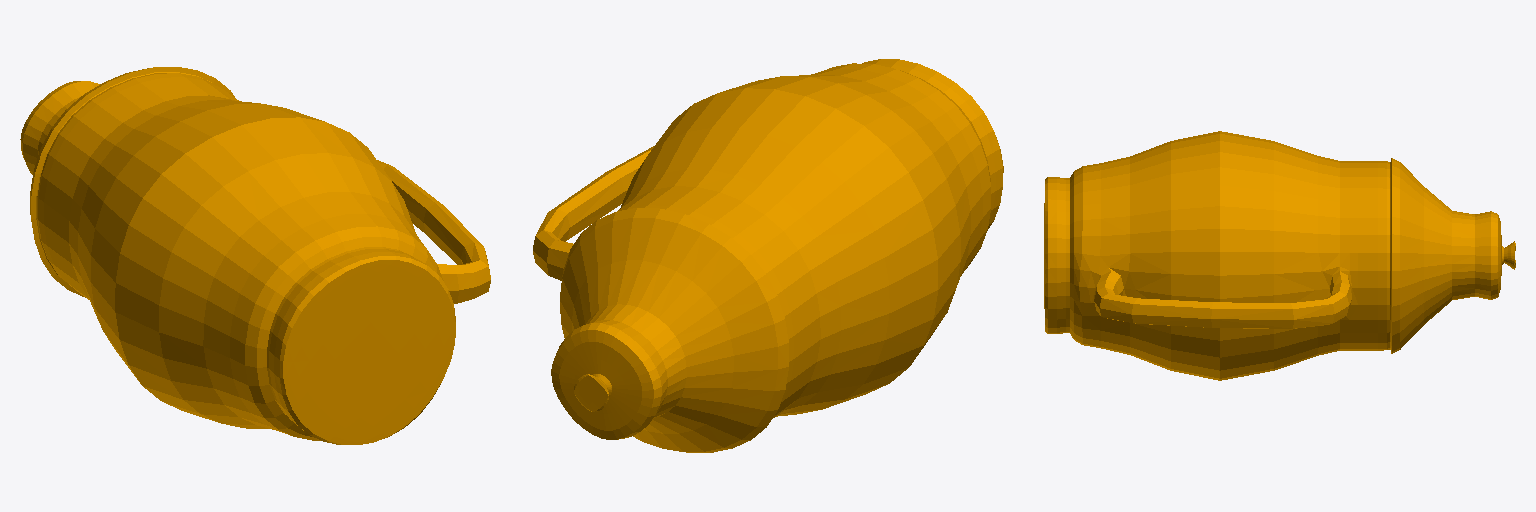
robot.urdf — 174:
<?xml version="1.0" ?>
<robot name="174">
  <link name="body">
    <visual>
      <geometry>
        <mesh filename="../shapes/174.obj"/>
      </geometry>
    </visual>
    <collision>
      <geometry>
        <mesh filename="../shapes/174.obj"/>
      </geometry>
    </collision>
  </link>
</robot>

--- Render facts (derived) ---
3 views of the same robot in one strip: view 1: azimuth 30°, elevation 25°; view 2: azimuth 150°, elevation 25°; view 3: azimuth 270°, elevation 25° (orthographic).
Model 174 with 1 links and 0 joints (none), rooted at body, posed every joint at zero.
Visible links, largest first — view 1: body; view 2: body; view 3: body.
Link boxes in pixels (bbox=[...]): body: bbox=[20, 67, 490, 444]; body: bbox=[533, 59, 1003, 452]; body: bbox=[1044, 131, 1515, 380].
Bounding box of the posed robot: 3.75 × 6.15 × 3.19 m (x, y, z).
Meshes: 1 distinct files referenced, 1 mesh visuals loaded (1 OBJ).